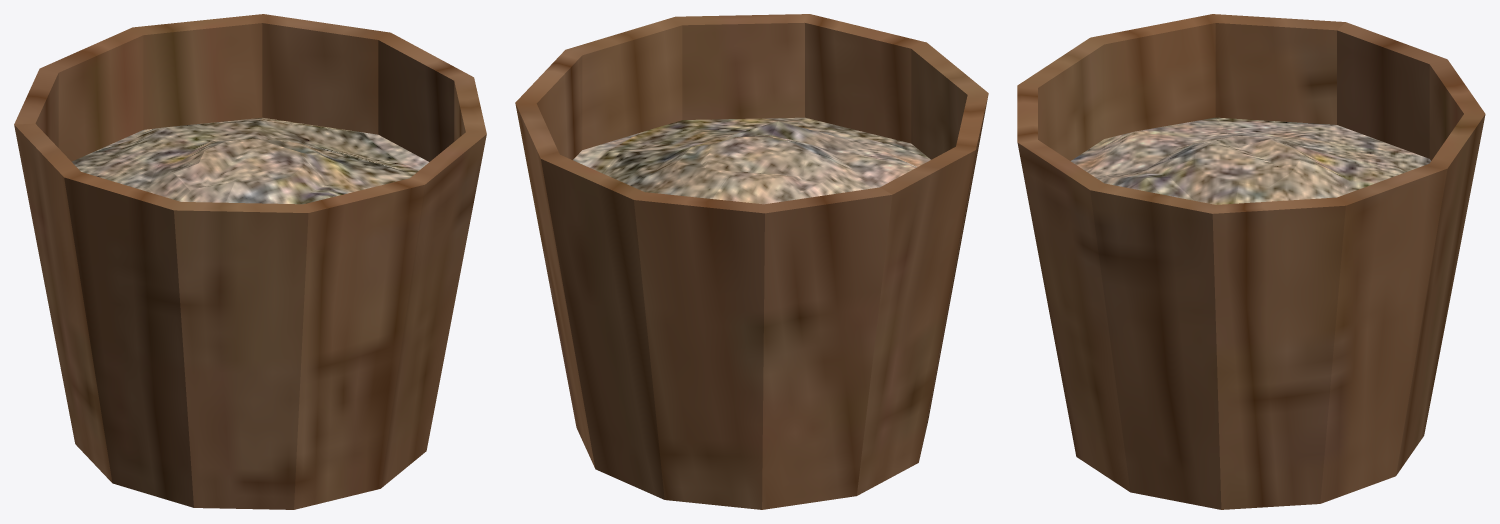
Rendered from bucket.fbx.
The picture shows the model from 3 angles, left to right: view 1: azimuth 30°, elevation 25°; view 2: azimuth 150°, elevation 25°; view 3: azimuth 270°, elevation 25°; orthographic projection.
Visible parts, largest first — view 1: Cylinder.001; view 2: Cylinder.001; view 3: Cylinder.001.
Part boxes in pixels (left/top/right/bottom): Cylinder.001: left=14, top=14, right=486, bottom=509; Cylinder.001: left=515, top=14, right=988, bottom=509; Cylinder.001: left=1017, top=14, right=1485, bottom=509.
Bounding box in the file's own units: 266 × 200 × 264.
